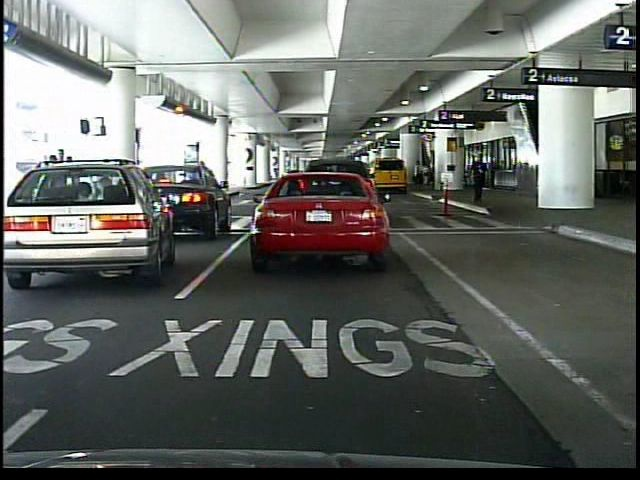person: (57, 148, 76, 228), (198, 157, 219, 214), (302, 155, 321, 211), (472, 153, 491, 203), (412, 156, 425, 193)
